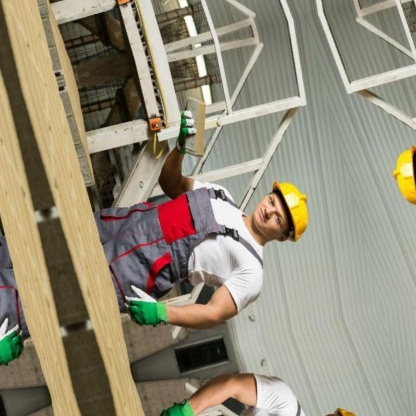yellow: (271, 170, 319, 246)
